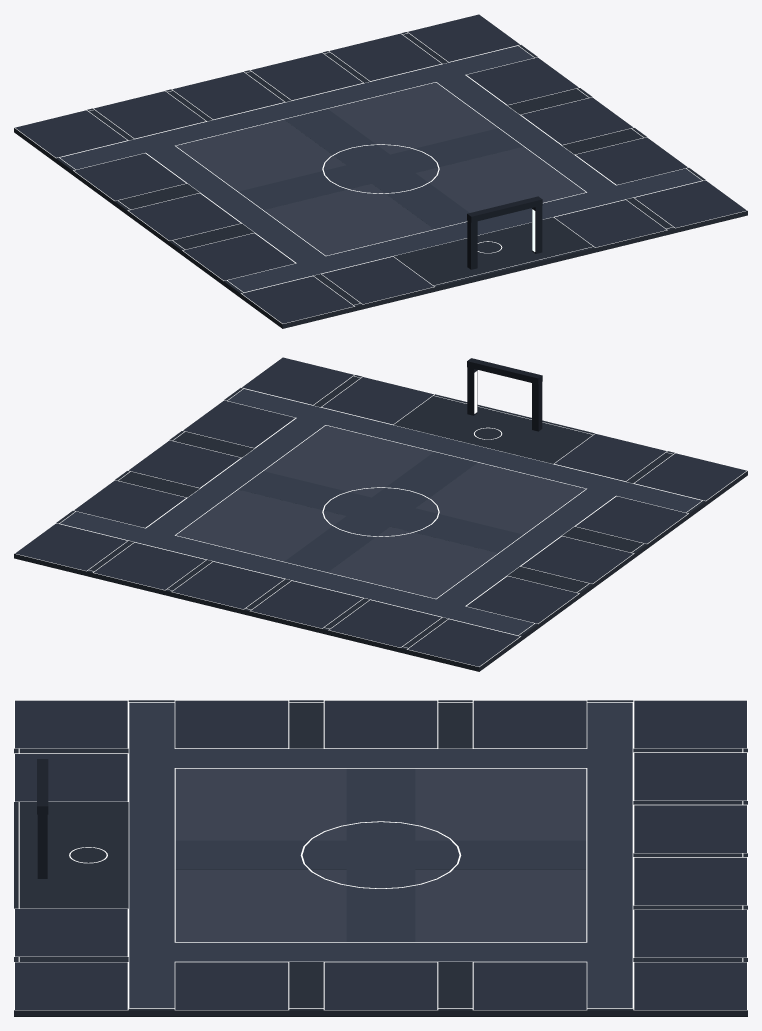
The picture shows the model from 3 angles, top to bottom: view 1: azimuth 30°, elevation 25°; view 2: azimuth 150°, elevation 25°; view 3: azimuth 270°, elevation 25°; orthographic projection. The views are drawn at different scales.
Visible parts, largest first — view 1: district_frontera.lod1; view 2: district_frontera.lod1; view 3: district_frontera.lod1.
Part boxes in pixels (x1,y1,x2,y2): district_frontera.lod1: (14, 14, 747, 328); district_frontera.lod1: (14, 357, 747, 671); district_frontera.lod1: (14, 700, 747, 1016).
Size of the model in its own units: 64 by 7.62 by 64.
